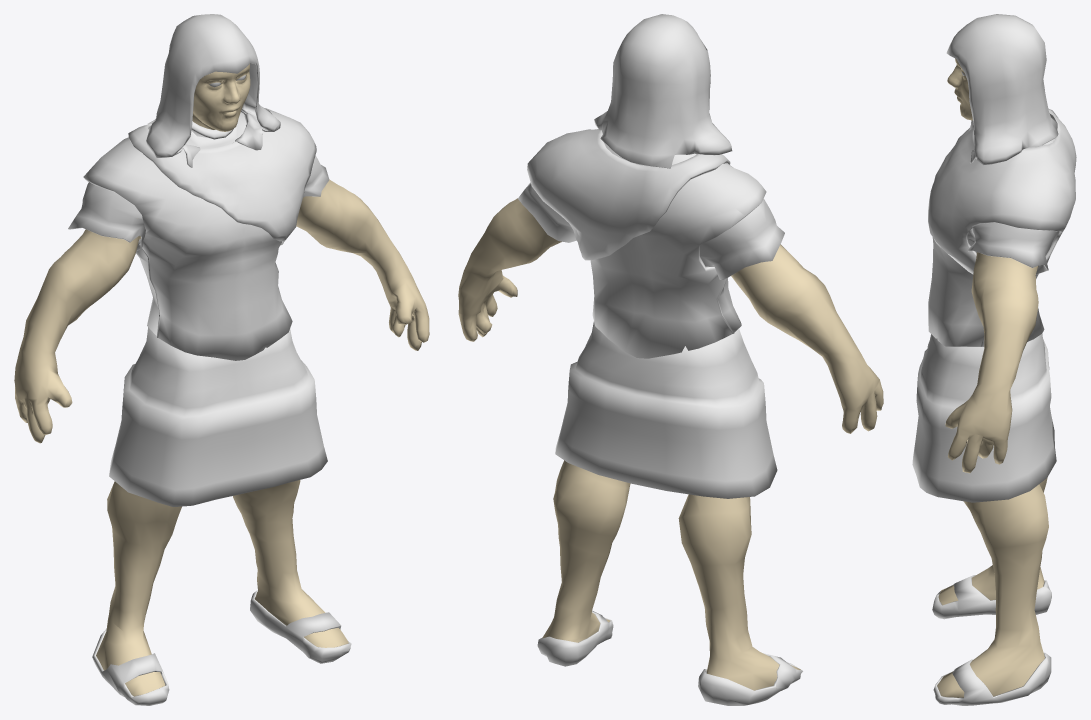
The model's file is PLAYER.fbx.
3 renders of one model, left to right at view 1: azimuth 30°, elevation 25°; view 2: azimuth 150°, elevation 25°; view 3: azimuth 270°, elevation 25°, orthographic. The views are drawn at different scales.
Parts seen in each view (by area): view 1: PLAYER; view 2: PLAYER; view 3: PLAYER.
Part boxes in pixels (bbox=[...]): PLAYER: bbox=[14, 14, 429, 705]; PLAYER: bbox=[458, 14, 883, 705]; PLAYER: bbox=[912, 14, 1076, 705].
Size of the model in its own units: 130 by 203 by 47.15.
